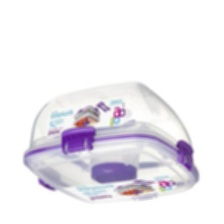plastic_box: (16, 75, 204, 212)
